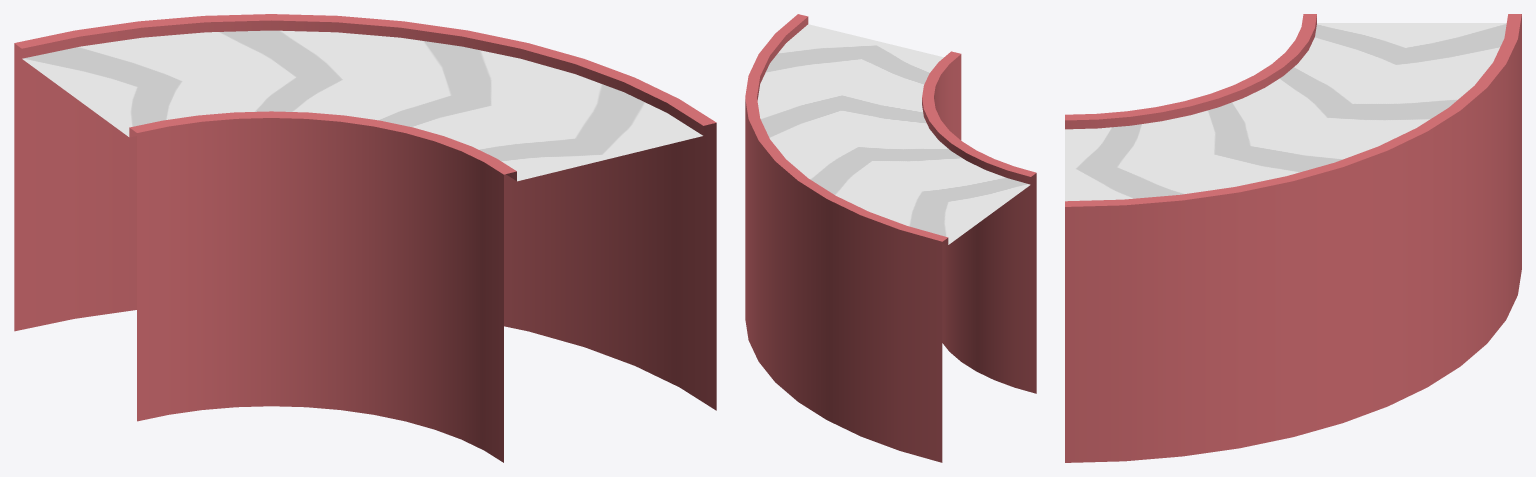
The model's file is M_90D_Turn_L.fbx.
3 views of the same model, side by side, from view 1: azimuth 30°, elevation 25°; view 2: azimuth 150°, elevation 25°; view 3: azimuth 270°, elevation 25° (orthographic). The views are drawn at different scales.
Parts seen in each view (by area): view 1: M_90D_Turn_L; view 2: M_90D_Turn_L; view 3: M_90D_Turn_L.
Part boxes in pixels (bbox=[...]): M_90D_Turn_L: bbox=[14, 14, 716, 462]; M_90D_Turn_L: bbox=[745, 14, 1036, 462]; M_90D_Turn_L: bbox=[1065, 14, 1521, 462].
Bounding box in the file's own units: 16.73 × 10.35 × 16.73.
